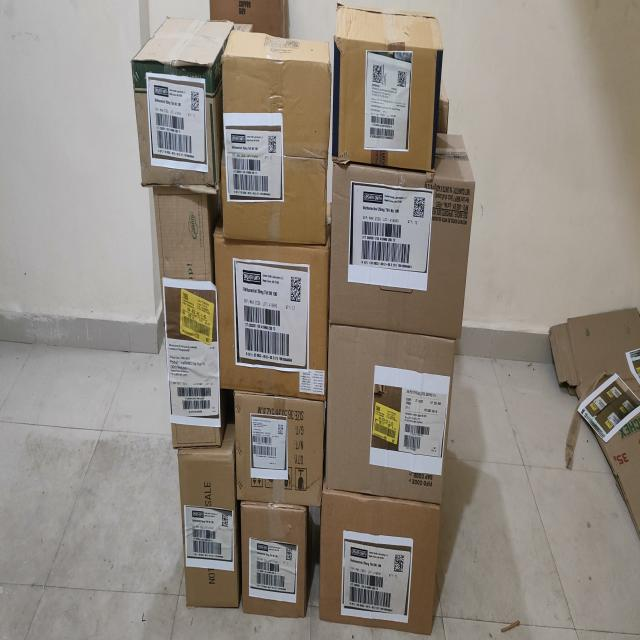BoxFace: (330, 136, 475, 339), (221, 31, 331, 245), (325, 325, 455, 503), (214, 228, 330, 400), (154, 186, 225, 450), (332, 6, 442, 170), (320, 486, 440, 636), (178, 425, 240, 609), (234, 392, 325, 506), (135, 72, 223, 186), (241, 503, 309, 617)
